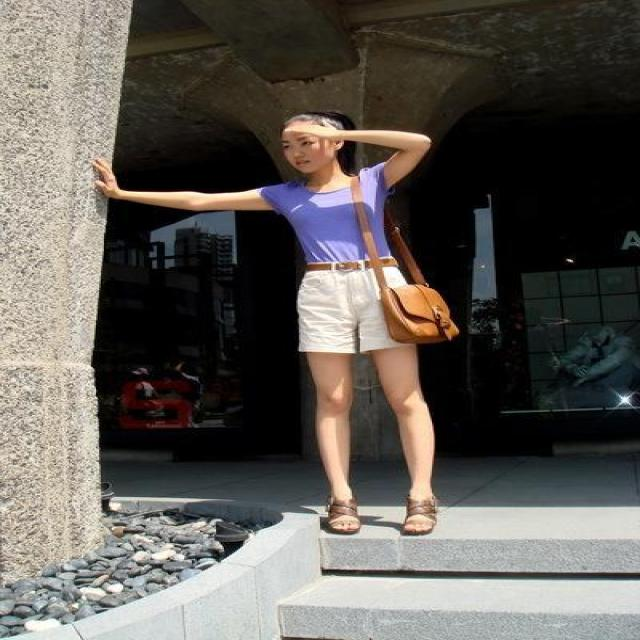bag: (374, 246, 458, 358)
shirt: (261, 166, 384, 271)
shoe: (320, 490, 440, 536)
shorts: (298, 260, 402, 352)
